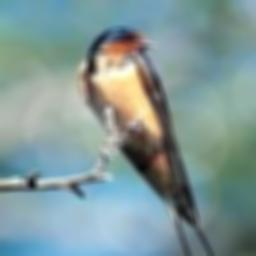Swallow: (77, 26, 217, 256)
